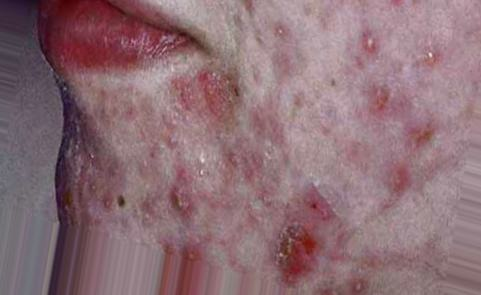Acne: (62, 2, 443, 290)
